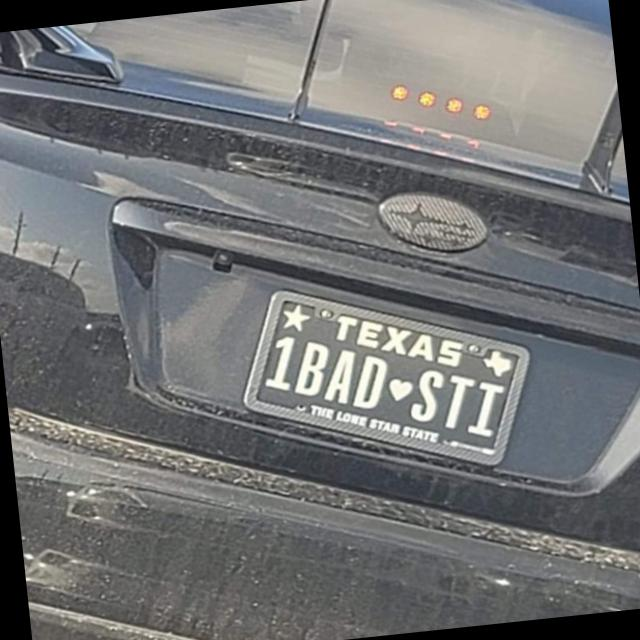LicensePlate: (232, 249, 536, 485)
